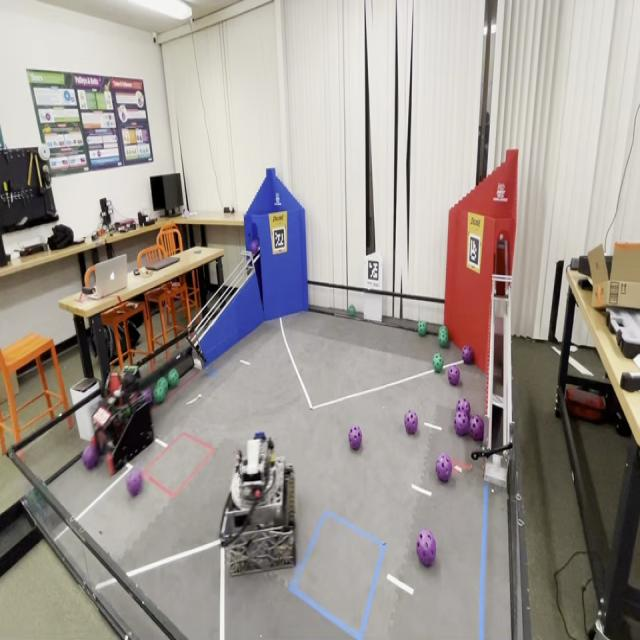artifact_green: (27, 488, 49, 515), (126, 467, 143, 497), (92, 430, 107, 456), (154, 379, 167, 404), (167, 369, 179, 388), (439, 325, 449, 347), (433, 354, 443, 373), (141, 388, 152, 404), (157, 377, 168, 391), (418, 320, 427, 336), (439, 336, 448, 348), (348, 305, 356, 318), (124, 406, 132, 418)
artifact_purple: (417, 529, 435, 566), (436, 453, 452, 482), (126, 469, 142, 496), (82, 445, 99, 469), (454, 412, 469, 436), (470, 415, 484, 440), (349, 426, 362, 450), (404, 411, 417, 434), (456, 399, 470, 417), (448, 366, 460, 386), (462, 345, 473, 365), (142, 388, 152, 404), (251, 239, 259, 257)
